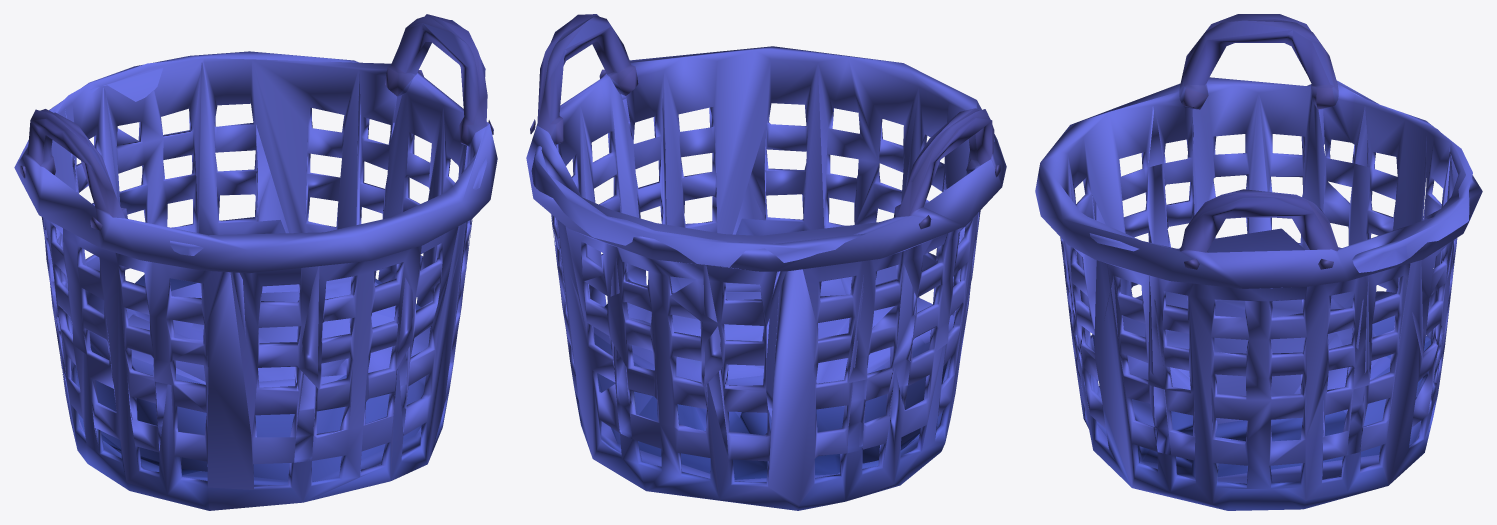
The model's file is model.progressive.glb.
The picture shows the model from 3 angles, left to right: view 1: azimuth 30°, elevation 25°; view 2: azimuth 150°, elevation 25°; view 3: azimuth 270°, elevation 25°; orthographic projection. The views are drawn at different scales.
Parts seen in each view (by area): view 1: material; view 2: material; view 3: material.
Part boxes in pixels (x1,y1,x2,y2): material: (14, 14, 497, 510); material: (526, 14, 1006, 510); material: (1035, 14, 1482, 510).
Size of the model in its own units: 1.9 by 1.58 by 1.9.
1 material, 1 textured.
